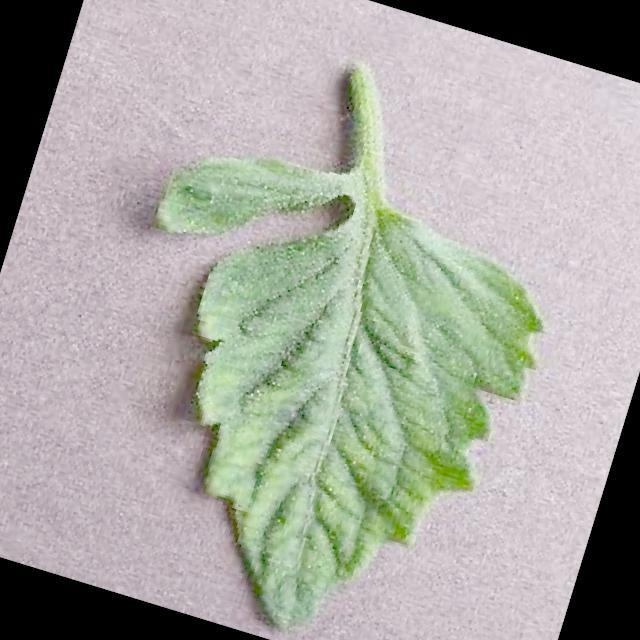Tomato mosaic virus leaf: (111, 165, 565, 640)
